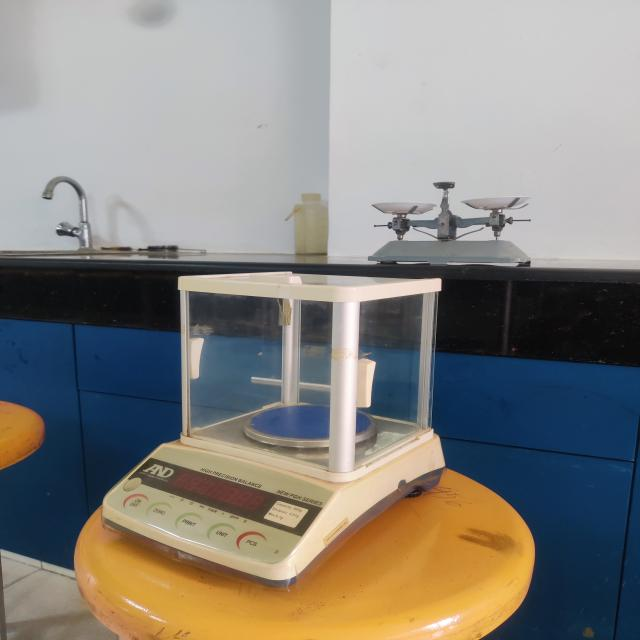Mechanical_Balance_Scale: (356, 167, 538, 270)
Precision_Weight_Scale: (73, 263, 460, 627)
